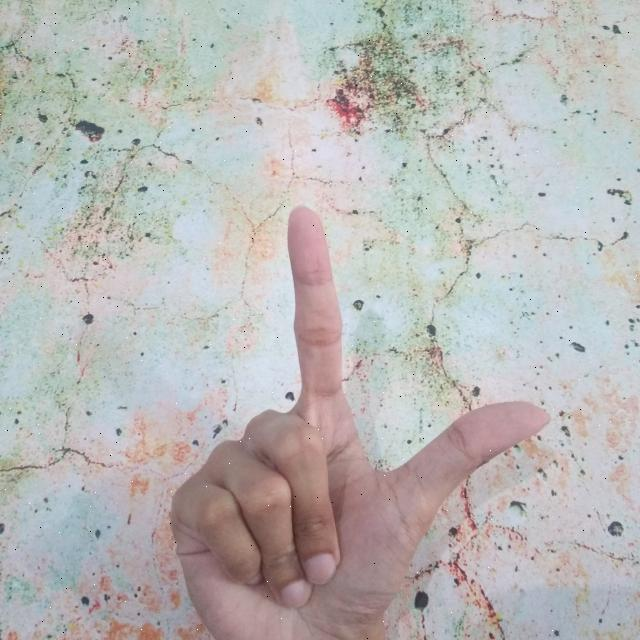L: (159, 200, 559, 640)
